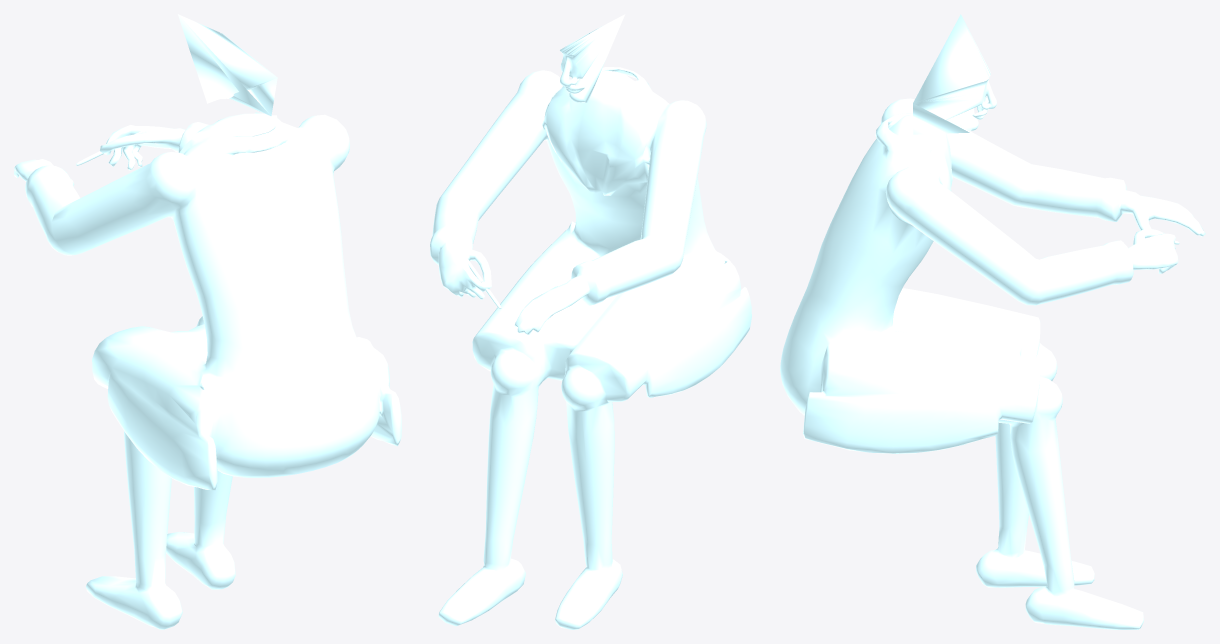
Rendered from echo_leyla_sitting.glb.
3 views of the same model, side by side, from view 1: azimuth 30°, elevation 25°; view 2: azimuth 150°, elevation 25°; view 3: azimuth 270°, elevation 25° (orthographic). The views are drawn at different scales.
Visible parts, largest first — view 1: echo_body, echo_head; view 2: echo_body, echo_head; view 3: echo_body, echo_head.
Part boxes in pixels (bbox=[...]): echo_body: bbox=[14, 112, 401, 629]; echo_head: bbox=[178, 14, 277, 115]; echo_body: bbox=[430, 67, 751, 629]; echo_head: bbox=[560, 14, 625, 103]; echo_body: bbox=[780, 98, 1205, 629]; echo_head: bbox=[913, 14, 996, 134].
Bounding box in the file's own units: 0.5562 × 1.27 × 0.8612.
